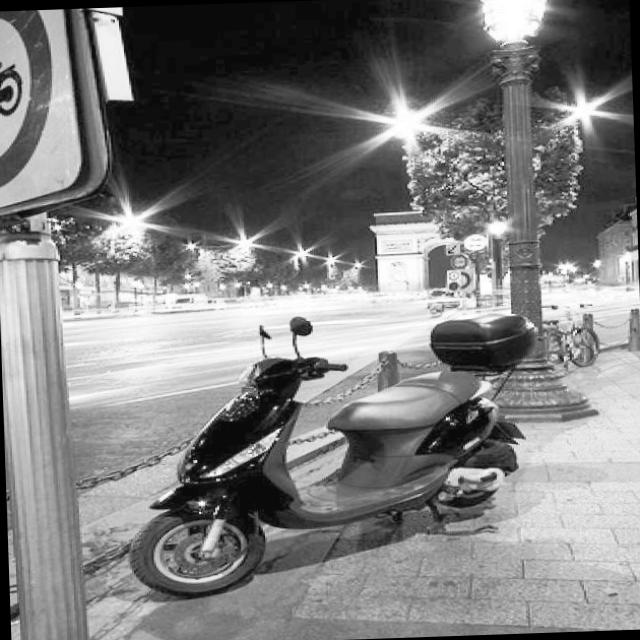Motorcycle: (68, 299, 612, 602)
